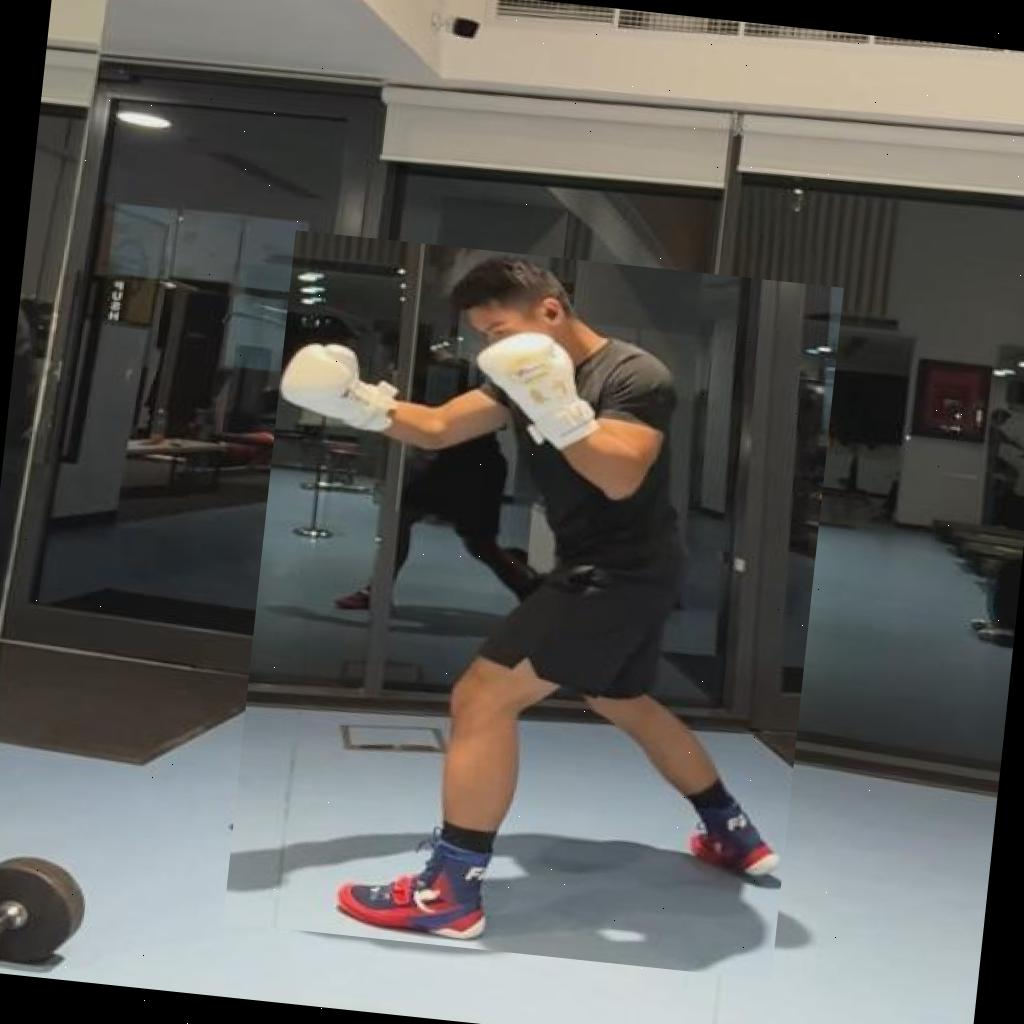uppercut: (222, 230, 844, 979)
